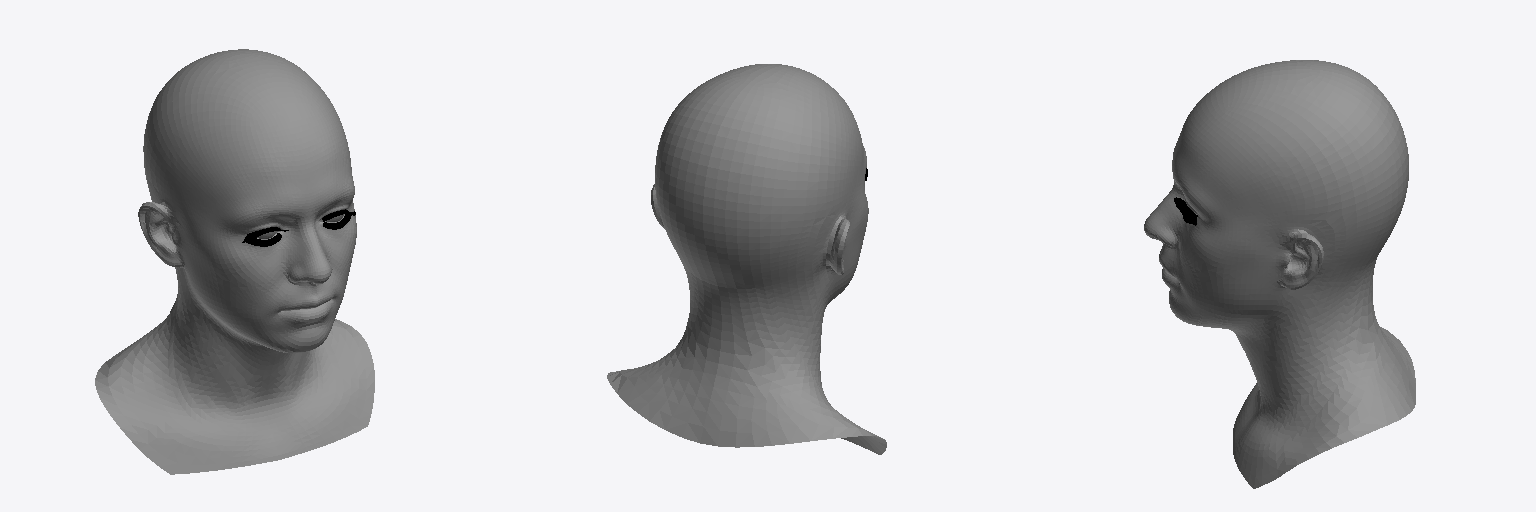
File: identity076.obj
3 renders of one model, left to right at view 1: azimuth 30°, elevation 25°; view 2: azimuth 150°, elevation 25°; view 3: azimuth 270°, elevation 25°, orthographic.
Bounding box in the file's own units: 24.83 × 33.81 × 22.33.